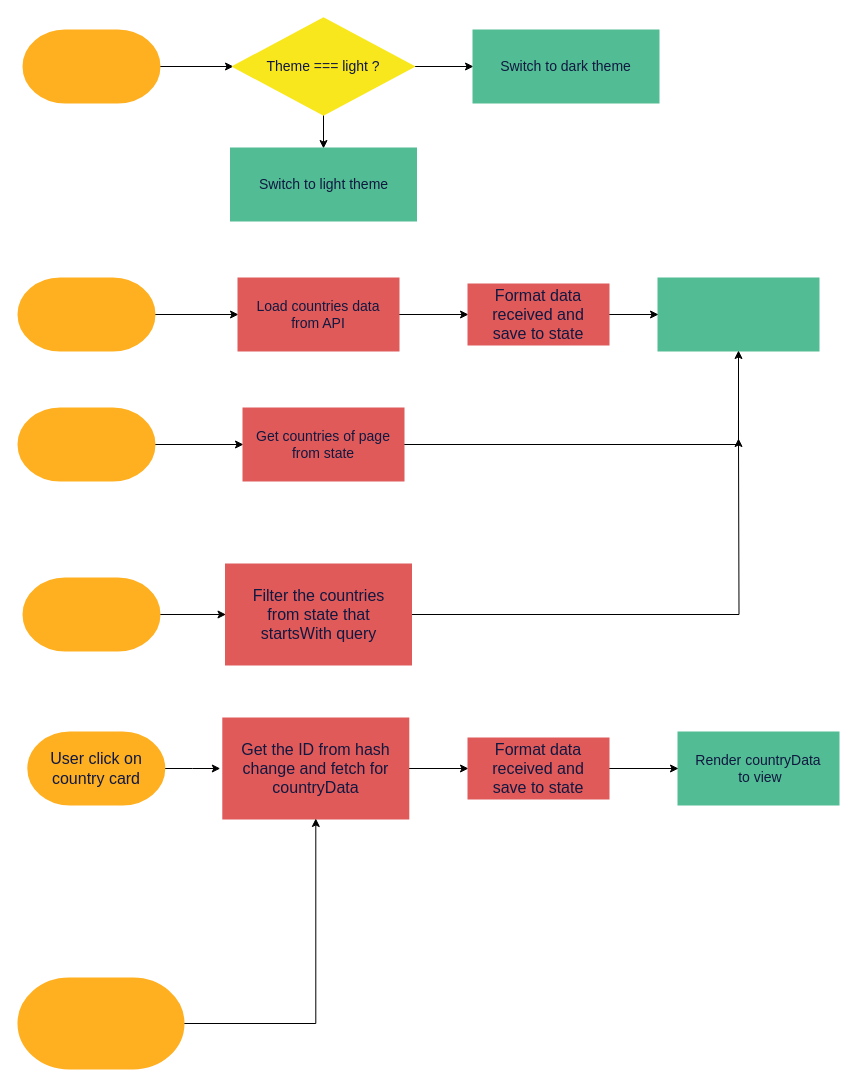
The diagram is 856 pixels wide and 1086 high, and some of its shapes have lost their labels. Each missing label, with the centre of its shape:
Page load: (x=86, y=314)
Render countries to view: (x=738, y=314)
User click on border country button in detail view: (x=100, y=1023)
User click pagination btn: (x=86, y=444)
User click theme switch btn: (x=91, y=66)
User searches: (x=91, y=614)
